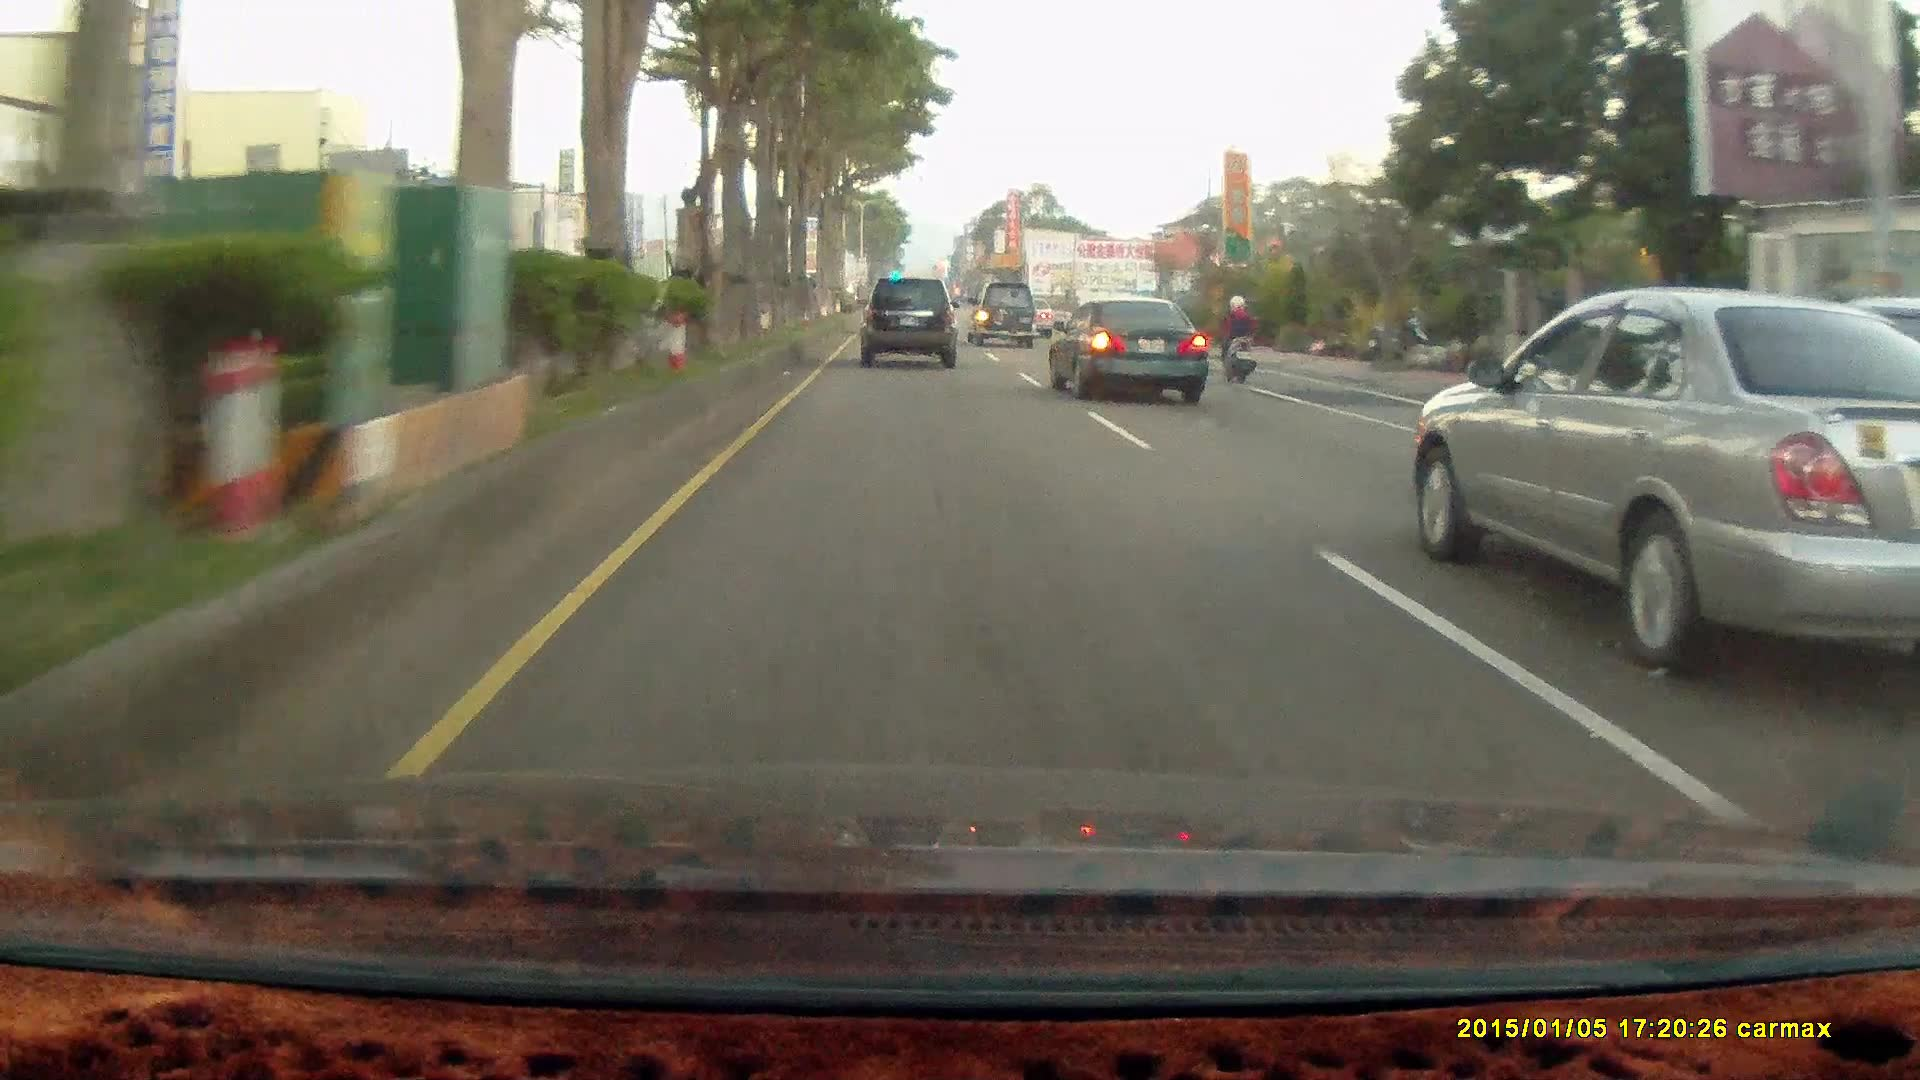rider: (1207, 285, 1266, 393), (1213, 288, 1260, 381)
vehicle: (1408, 292, 1919, 684), (1051, 297, 1215, 402), (1045, 296, 1207, 401), (861, 272, 963, 368), (855, 276, 955, 369), (967, 279, 1041, 350), (964, 281, 1039, 349)
